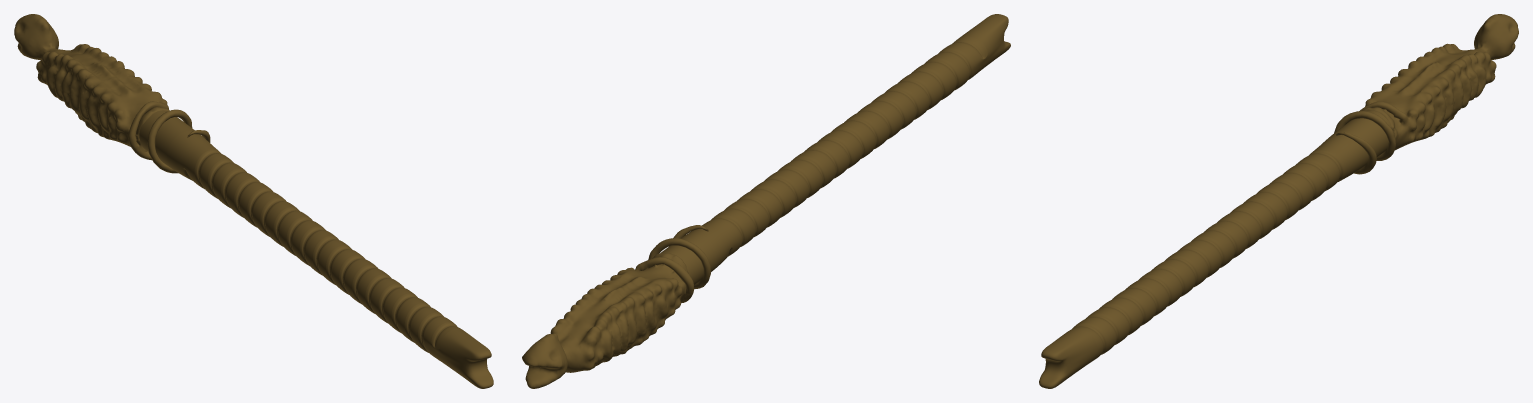
The model's file is dragon staff.glb.
3 views of the same model, side by side, from view 1: azimuth 30°, elevation 25°; view 2: azimuth 150°, elevation 25°; view 3: azimuth 330°, elevation 25° (orthographic).
Visible parts, largest first — view 1: Grid; view 2: Grid; view 3: Grid.
Boxes of the visible parts, x1,y1,x2,y2 form: Grid: (14,14,493,388); Grid: (522,14,1010,388); Grid: (1039,14,1518,388).
Bounding box in the file's own units: 0.3643 × 0.3753 × 5.28.
